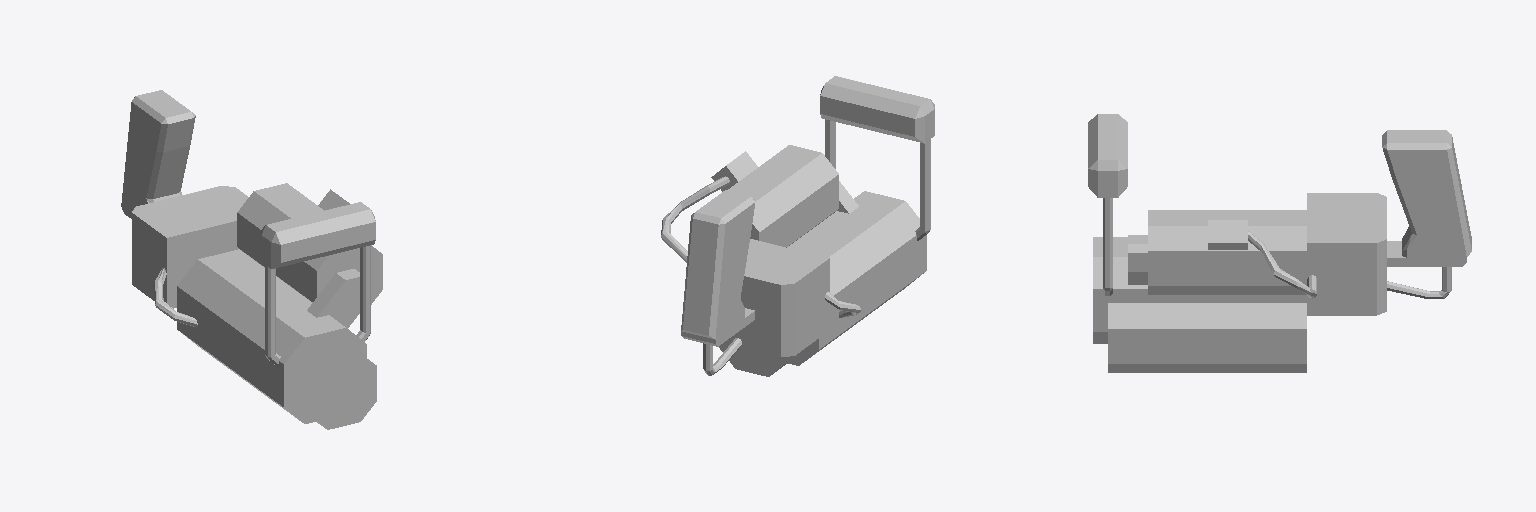
File: minigun_receiver.obj
3 renders of one model, left to right at view 1: azimuth 30°, elevation 25°; view 2: azimuth 150°, elevation 25°; view 3: azimuth 270°, elevation 25°, orthographic.
Parts seen in each view (by area): view 1: Circle.005; view 2: Circle.005; view 3: Circle.005.
Boxes of the visible parts, x1=… form: Circle.005: x1=121, y1=90, x2=382, y2=429; Circle.005: x1=661, y1=76, x2=934, y2=376; Circle.005: x1=1088, y1=114, x2=1471, y2=372.
Bounding box in the file's own units: 0.5273 × 0.5588 × 0.9023.